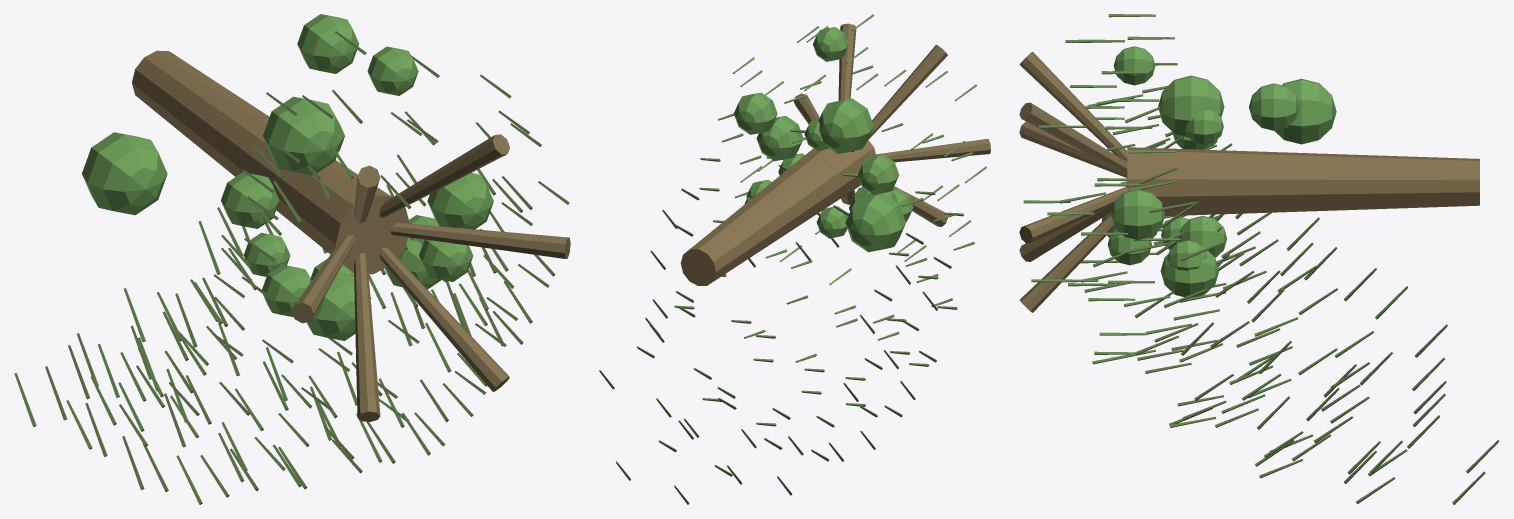
File: willow_tree.glb
3 renders of one model, left to right at view 1: azimuth 30°, elevation 25°; view 2: azimuth 150°, elevation 25°; view 3: azimuth 270°, elevation 25°, orthographic. The views are drawn at different scales.
Parts seen in each view (by area): view 1: geometry_0; view 2: geometry_0; view 3: geometry_0.
Part boxes in pixels (bbox=[...]): geometry_0: bbox=[14, 14, 570, 504]; geometry_0: bbox=[599, 14, 990, 504]; geometry_0: bbox=[1019, 14, 1499, 504].
Bounding box in the file's own units: 3.12 × 4.19 × 4.08.
